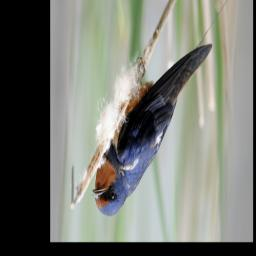Swallow: (91, 43, 213, 218)
